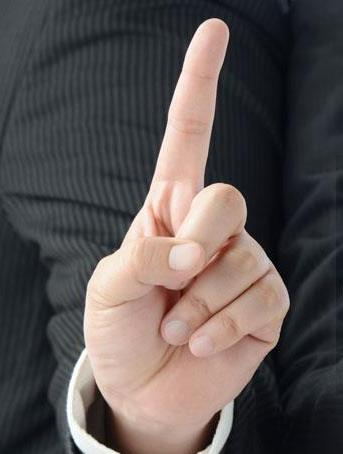up: (81, 17, 294, 421)
